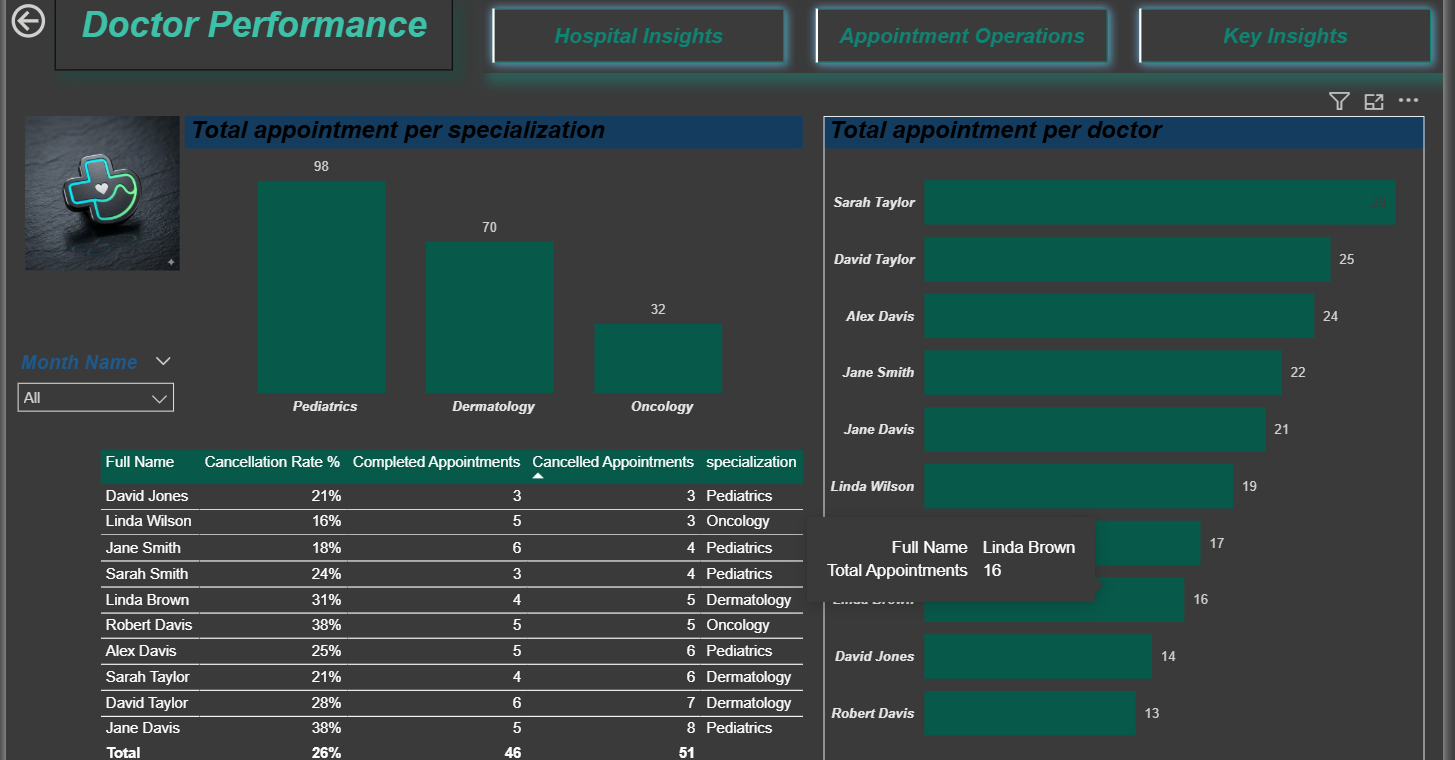

This screenshot's page, from the dashboard's own definition file:
{"tool":"powerbi","page":{"name":"Doctor Performance","canvas":[1280,720],"ordinal":2},"visuals":[{"type":"textbox","box":[43.4,15.7,354.7,63.9],"z":0},{"type":"image","box":[12.1,120.6,147.2,137.5],"z":1000},{"type":"clusteredBarChart","title":"Total appointment per doctor","fields":{"Category":["doctors.Full Name"],"Y":["appointments.Total Appointments"]},"box":[727.5,120.6,535.7,577.9],"z":2000},{"type":"clusteredColumnChart","title":"Total appointment per specialization","fields":{"Category":["doctors.specialization"],"Y":["CountNonNull(appointments.appointment_time)"]},"box":[159.3,120.6,550.1,275.1],"z":3000},{"type":"tableEx","fields":{"Values":["doctors.Full Name","appointments.Cancellation Rate %","appointments.Completed Appointments","appointments.Cancelled Appointments","doctors.specialization"]},"box":[78.4,412.6,639.4,296.8],"z":4000},{"type":"actionButton","box":[0,15.7,100.1,39.8],"z":5000},{"type":"pageNavigator","box":[424.7,15.7,855.4,66.4],"z":6000},{"type":"slicer","fields":{"Values":["Dim_Date.Month Name"]},"box":[0,324.5,159.3,88.1],"z":7000}]}

Visuals, with their boxes on the page's 1280x720 design canvas (x1, y1, x2, y2). These are canvas units, not pixel positions in the 1455x760 screenshot, which may show the page scaled, cropped or inside an application window:
textbox: {"left": 43, "top": 16, "right": 398, "bottom": 80}
image: {"left": 12, "top": 121, "right": 159, "bottom": 258}
"Total appointment per doctor" clusteredBarChart: {"left": 728, "top": 121, "right": 1263, "bottom": 698}
"Total appointment per specialization" clusteredColumnChart: {"left": 159, "top": 121, "right": 709, "bottom": 396}
tableEx - doctors.Full Name x appointments.Cancellation Rate %: {"left": 78, "top": 413, "right": 718, "bottom": 709}
actionButton: {"left": 0, "top": 16, "right": 100, "bottom": 56}
pageNavigator: {"left": 425, "top": 16, "right": 1280, "bottom": 82}
slicer - Dim_Date.Month Name: {"left": 0, "top": 324, "right": 159, "bottom": 413}
